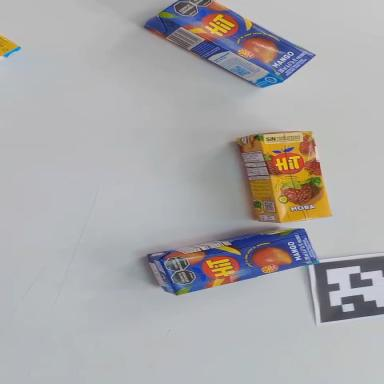HIT-MANGO: (143, 0, 316, 105), (147, 219, 319, 299)
HIT-MORA: (237, 122, 330, 232), (0, 35, 21, 64)
cara_F: (157, 0, 317, 90), (163, 227, 320, 297), (258, 123, 332, 228), (0, 34, 19, 57)
